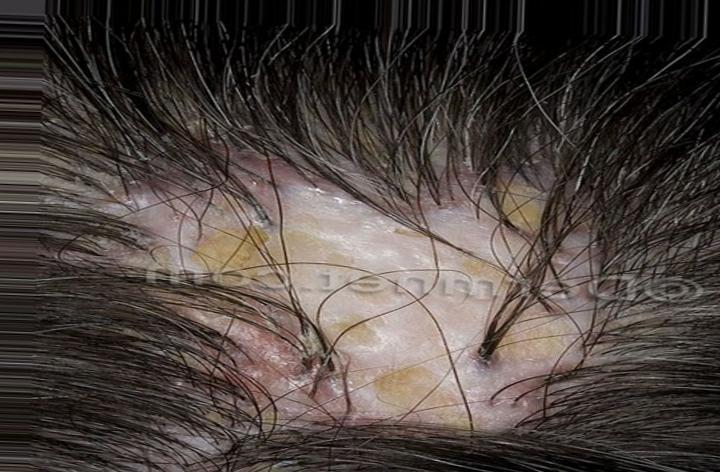Folliculitis: (175, 141, 571, 436)
